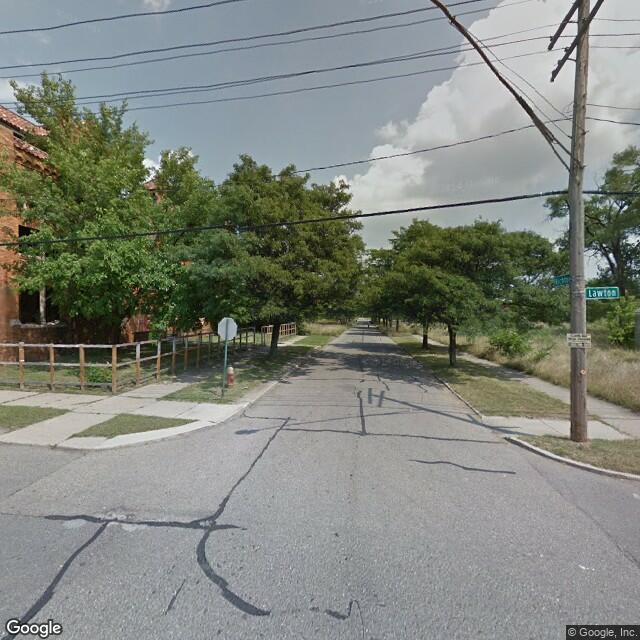litter: (239, 385, 249, 391)
